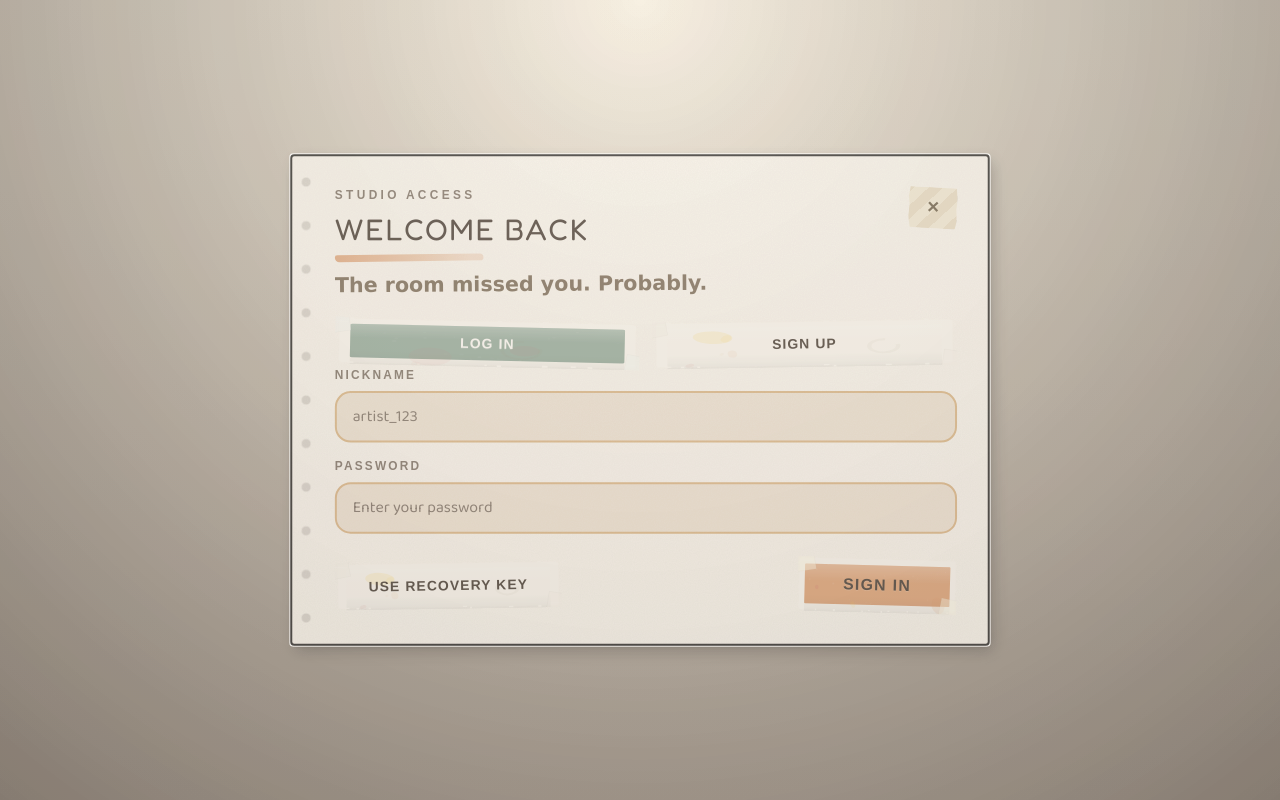
Test case: AuthOverlay › starts on the sign-in view and validates fields before login submit
Expected: the heading "Welcome back" is shown, [335,211,589,246]
Click the button "Sign in" at (878, 585), box [797,556,958,615]
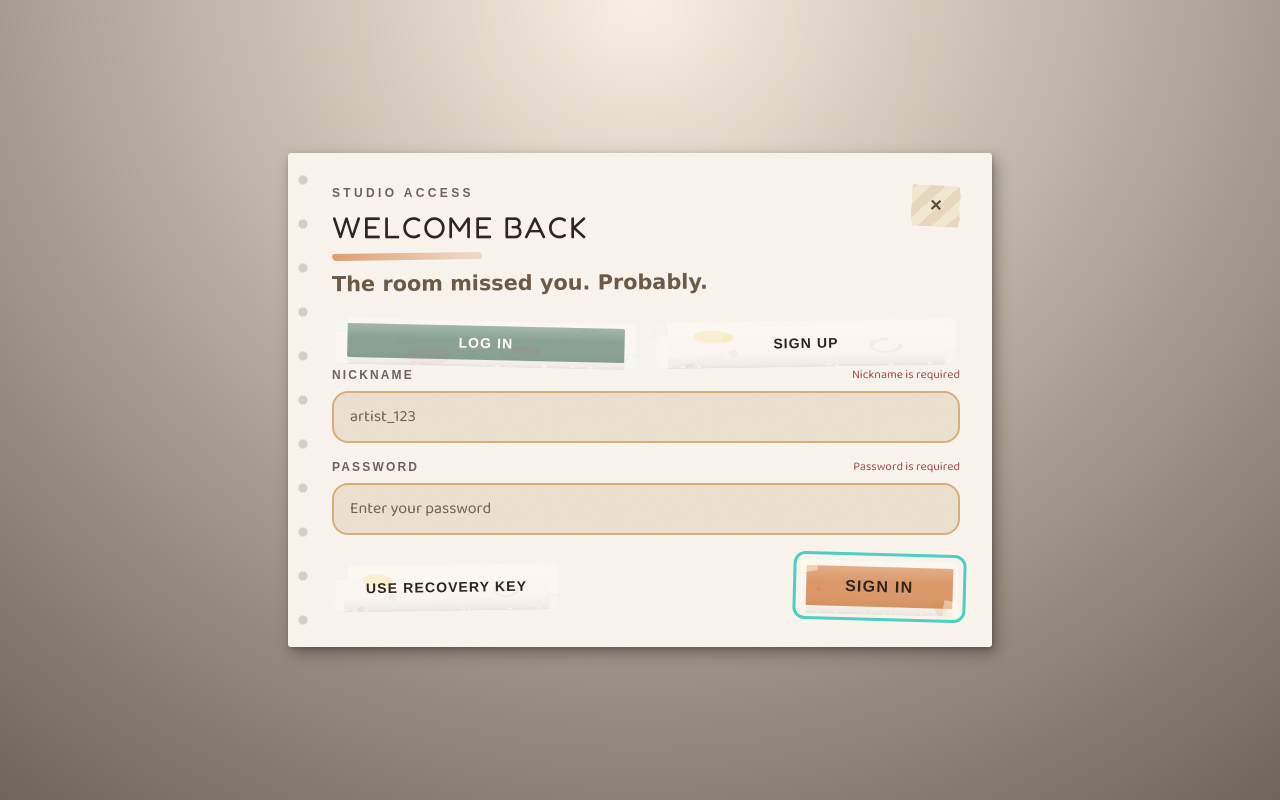
Result: the text "Nickname is required" is shown at [852,367,960,383]
Result: the text "Password is required" is shown at [853,459,960,475]
